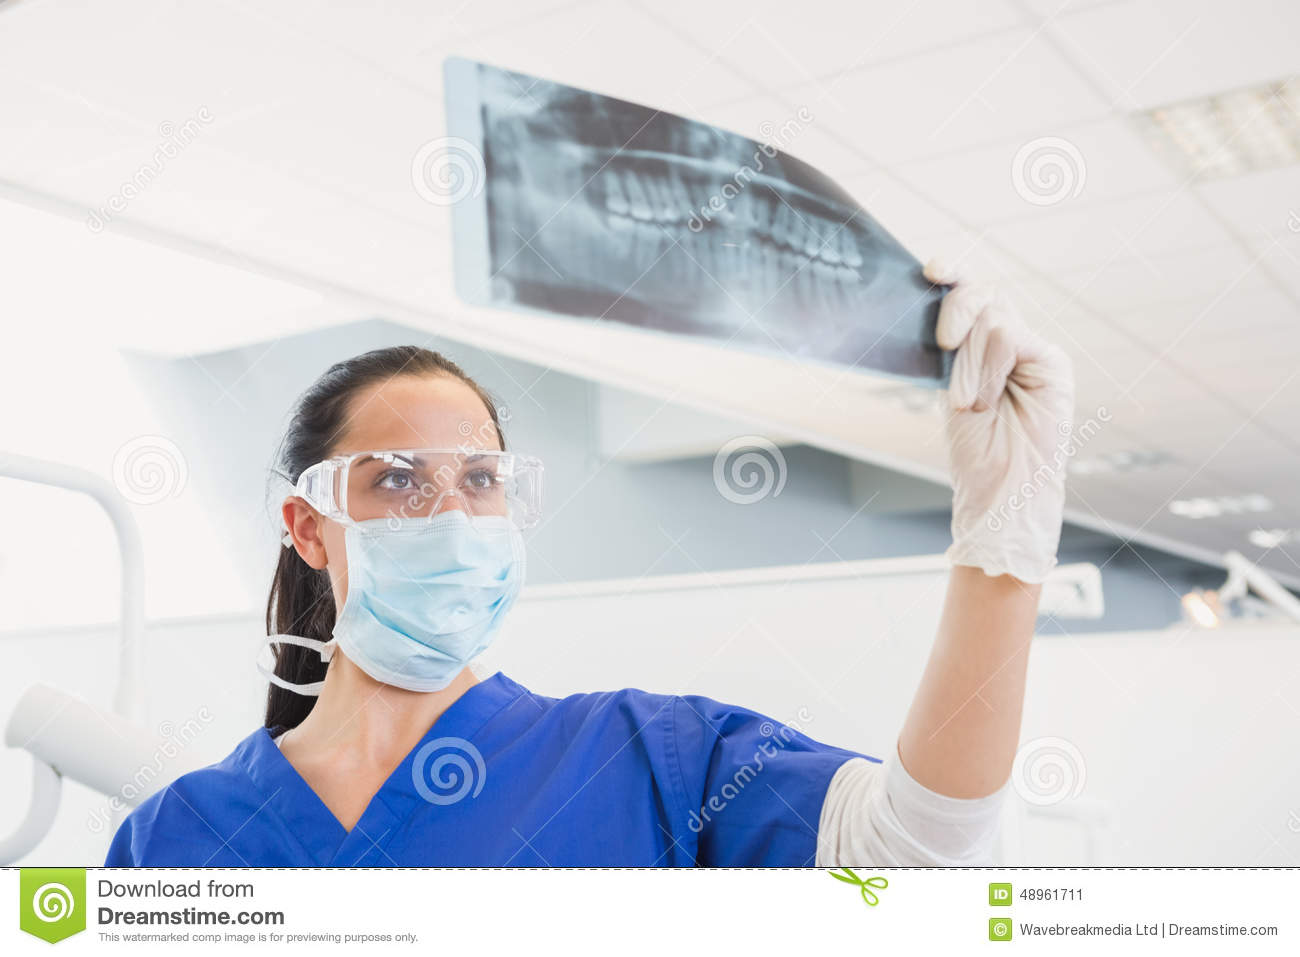mask: (339, 502, 528, 710)
